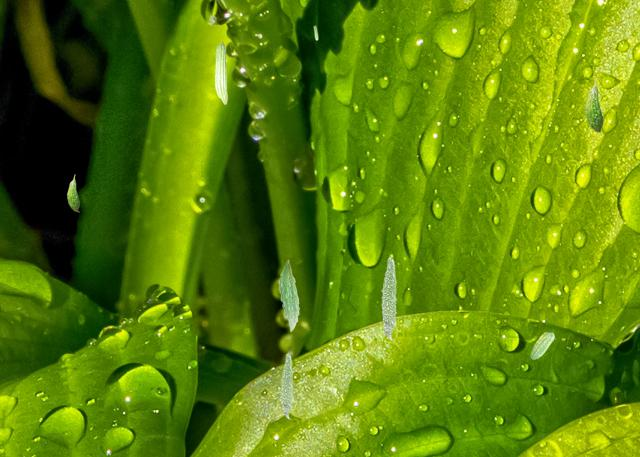ampalaya: (279, 259, 300, 332), (380, 256, 397, 340), (584, 78, 603, 133), (214, 41, 228, 105), (280, 352, 293, 419), (530, 331, 555, 360), (66, 174, 80, 212), (313, 25, 318, 40)
